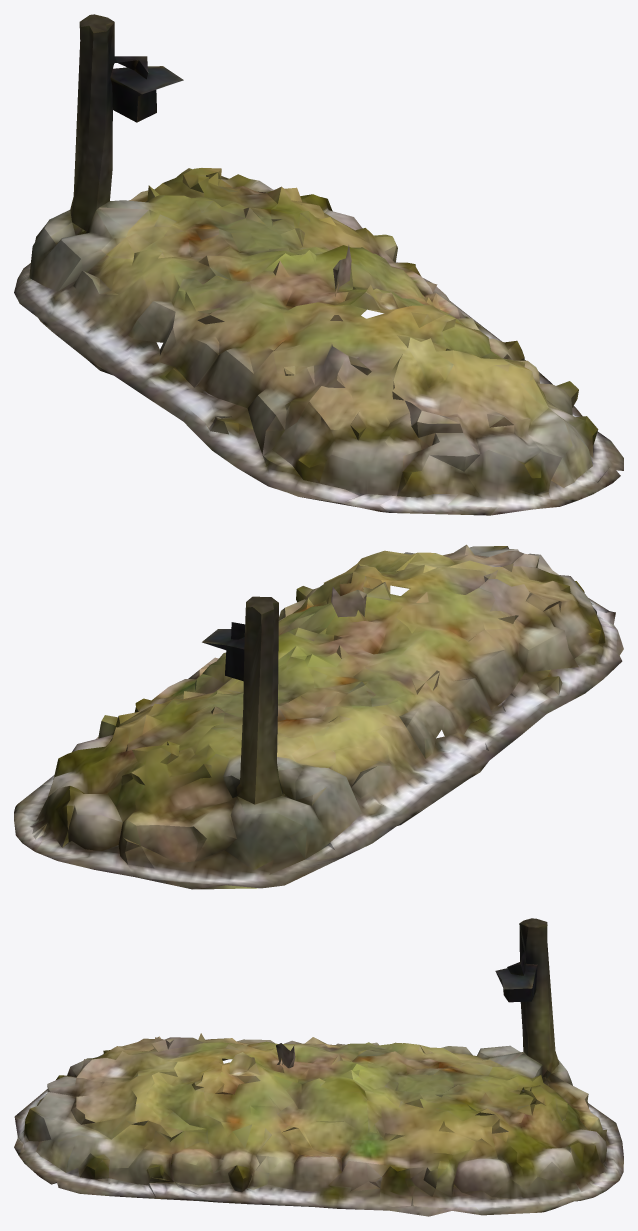
Rendered from prop-grave-ward.glb.
3 views of the same model, one above another, from view 1: azimuth 30°, elevation 25°; view 2: azimuth 150°, elevation 25°; view 3: azimuth 270°, elevation 25° (orthographic). The views are drawn at different scales.
Parts seen in each view (by area): view 1: prop-grave-ward; view 2: prop-grave-ward; view 3: prop-grave-ward.
Boxes of the visible parts, box(x1,y1,x2,y2) form: prop-grave-ward: box(14, 14, 623, 515); prop-grave-ward: box(14, 544, 623, 889); prop-grave-ward: box(14, 918, 623, 1216).
Size of the model in its own units: 1.66 by 1.17 by 3.2.
1 material, 1 textured.
